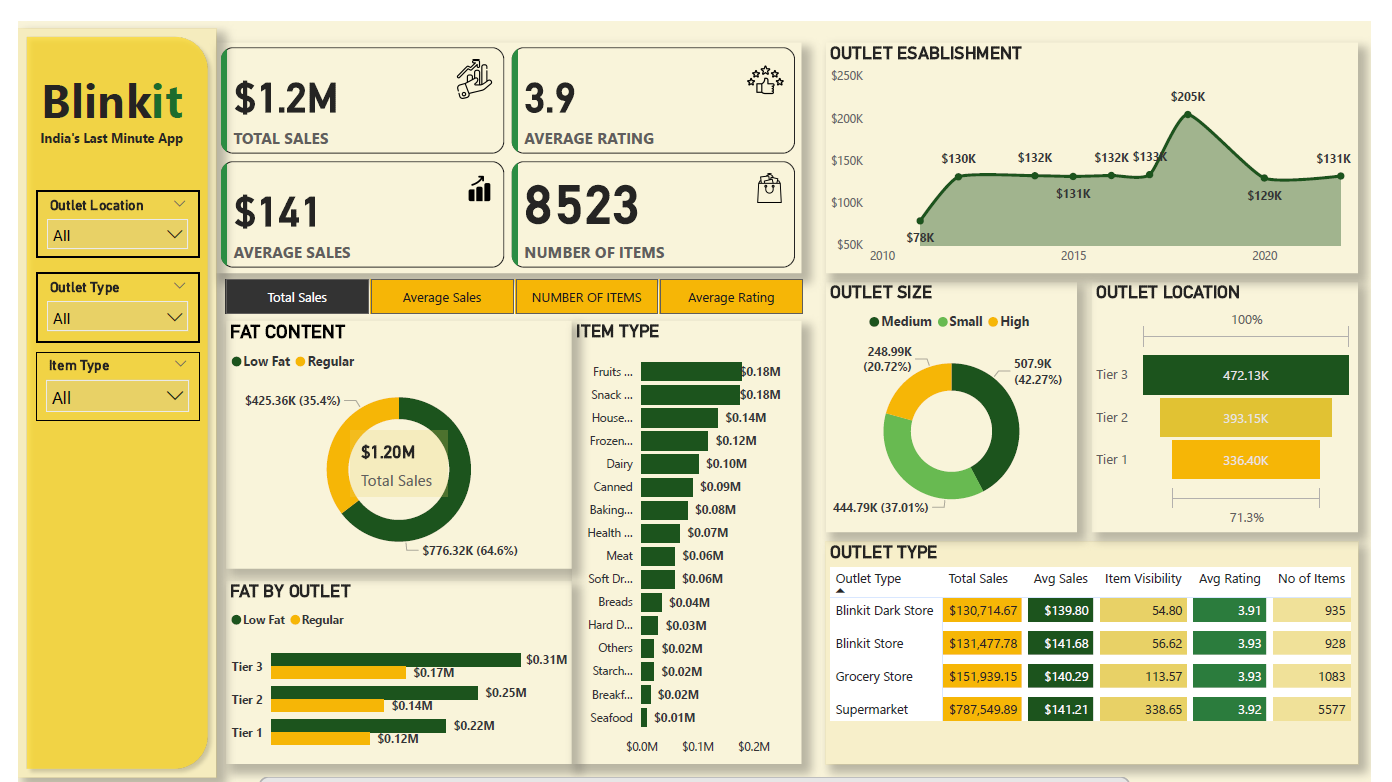

What the dashboard file says about the page in this screenshot:
{"tool":"powerbi","page":{"name":"Blinkit Dashboard","canvas":[1400,800],"ordinal":0},"visuals":[{"type":"shape","box":[0,8.2,205.2,774.5],"z":0},{"type":"textbox","box":[19,43.5,169.8,76.1],"z":1000},{"type":"textbox","box":[17.7,107.3,169.8,34],"z":2000},{"type":"cardVisual","fields":{"Data":["Blinkit.Total Sales","Blinkit.Average Rating","Blinkit.Average Sales","Blinkit.NUMBER OF ITEMS"]},"box":[205.2,21.7,606,239.1],"z":3000},{"type":"donutChart","title":"FAT CONTENT","fields":{"Y":["Blinkit.Total Sales"],"Category":["Blinkit.Item Fat Content"]},"box":[214.7,309.8,358.7,256.8],"z":4000},{"type":"clusteredBarChart","title":"ITEM TYPE","fields":{"Y":["Blinkit.Total Sales"],"Category":["Blinkit.Item Type"]},"box":[573.4,309.8,237.8,459.2],"z":5000},{"type":"lineChart","title":"OUTLET ESABLISHMENT","fields":{"Category":["Blinkit.Outlet Establishment Year"],"Y":["Blinkit.Total Sales"]},"box":[835.6,21.7,551.6,239.1],"z":6000},{"type":"funnel","title":"OUTLET LOCATION","fields":{"Category":["Blinkit.Outlet Location Type"],"Y":["Sum(Blinkit.Sales)"]},"box":[1111.4,270.4,275.8,258.2],"z":7000},{"type":"clusteredBarChart","title":"FAT BY OUTLET","fields":{"Y":["Blinkit.Total Sales"],"Series":["Blinkit.Item Fat Content"],"Category":["Blinkit.Outlet Location Type"]},"box":[214.7,578.8,358.7,190.2],"z":8000},{"type":"donutChart","title":"OUTLET SIZE","fields":{"Category":["Blinkit.Outlet Size"],"Y":["Sum(Blinkit.Sales)"]},"box":[835.6,270.4,260.9,258.2],"z":9000},{"type":"slicer","fields":{"Values":["Metrics.Metrics"]},"box":[188.9,259.5,646.7,50.3],"z":10000},{"type":"cardVisual","fields":{"Data":["Blinkit.Total Sales"]},"box":[343.8,423.9,100.5,67.9],"z":11000},{"type":"pivotTable","title":"OUTLET TYPE ","fields":{"Rows":["Blinkit.Outlet Type"],"Values":["Blinkit.Total Sales","Blinkit.Average Sales","Sum(Blinkit.Item Visibility)","Blinkit.Average Rating","Blinkit.NUMBER OF ITEMS"]},"box":[835.6,539.4,551.6,229.6],"z":12000},{"type":"slicer","fields":{"Values":["Blinkit.Outlet Location Type"]},"box":[17.7,175.3,169.8,69.3],"z":13000},{"type":"slicer","fields":{"Values":["Blinkit.Outlet Type"]},"box":[17.7,259.5,169.8,73.4],"z":14000},{"type":"slicer","fields":{"Values":["Blinkit.Item Type"]},"box":[17.7,342.4,169.8,72],"z":14001}]}

Visuals, with their boxes in screenshot pixels (x1, y1, x2, y2), scaled from the page's 1400x800 canvas onto the 1392x782 screenshot:
shape: l=0, t=8, r=204, b=765
textbox: l=19, t=43, r=188, b=117
textbox: l=18, t=105, r=186, b=138
cardVisual - Blinkit.Total Sales x Blinkit.Average Rating: l=204, t=21, r=807, b=255
"FAT CONTENT" donutChart: l=213, t=303, r=570, b=554
"ITEM TYPE" clusteredBarChart: l=570, t=303, r=807, b=752
"OUTLET ESABLISHMENT" lineChart: l=831, t=21, r=1379, b=255
"OUTLET LOCATION" funnel: l=1105, t=264, r=1379, b=517
"FAT BY OUTLET" clusteredBarChart: l=213, t=566, r=570, b=752
"OUTLET SIZE" donutChart: l=831, t=264, r=1090, b=517
slicer - Metrics.Metrics: l=188, t=254, r=831, b=303
cardVisual - Blinkit.Total Sales: l=342, t=414, r=442, b=481
"OUTLET TYPE " pivotTable: l=831, t=527, r=1379, b=752
slicer - Blinkit.Outlet Location Type: l=18, t=171, r=186, b=239
slicer - Blinkit.Outlet Type: l=18, t=254, r=186, b=325
slicer - Blinkit.Item Type: l=18, t=335, r=186, b=405
